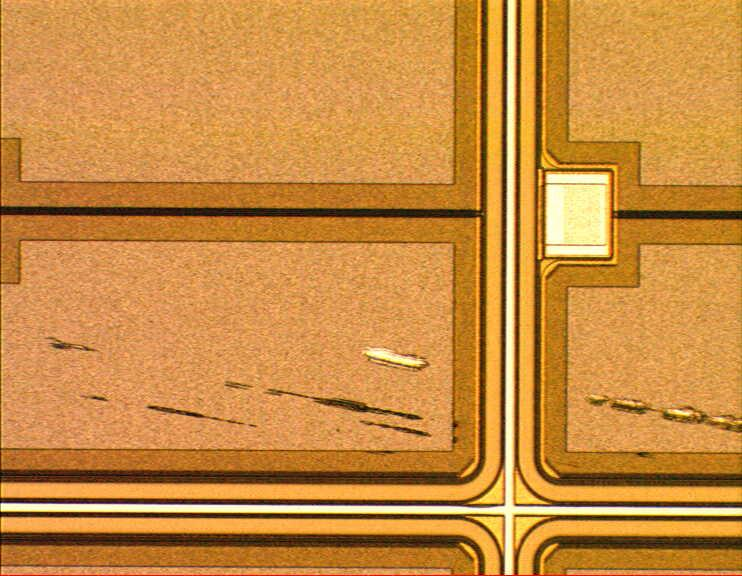SCRATCH: (35, 330, 742, 491)
